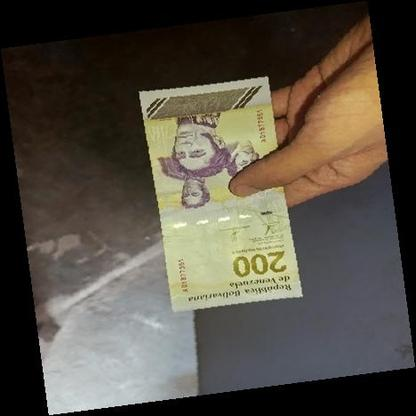two_hundred-front-vef: (137, 76, 304, 312)
